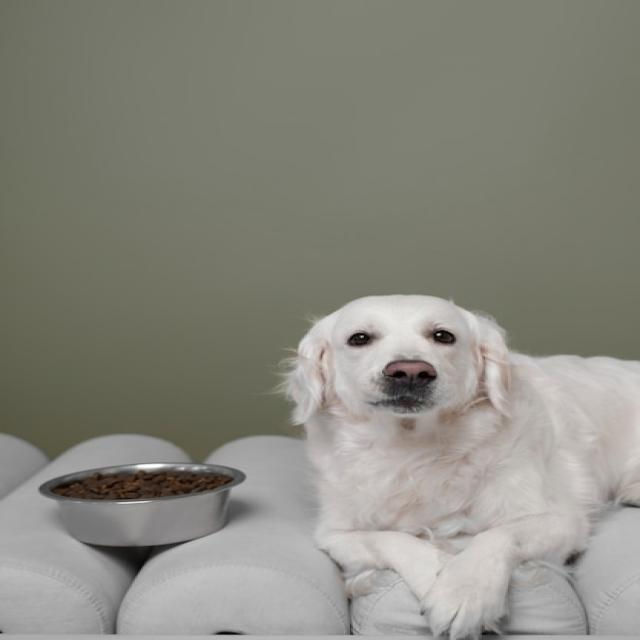Dog: (291, 294, 640, 639)
